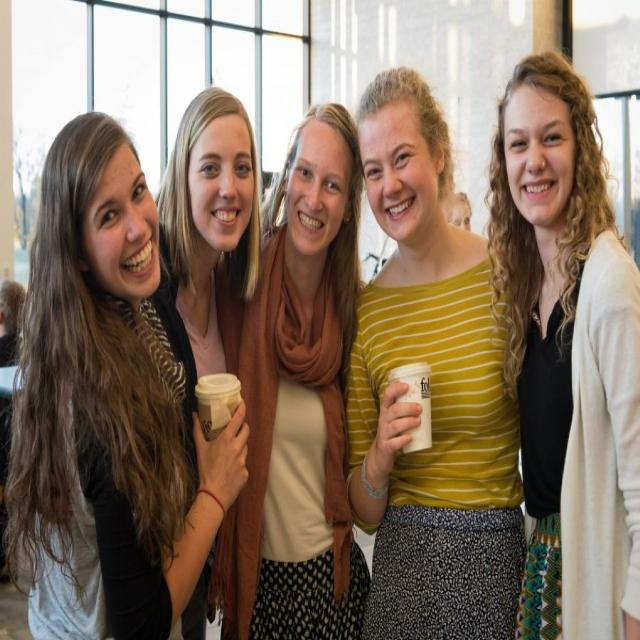body: (9, 104, 253, 639), (342, 61, 533, 639), (477, 44, 639, 639), (212, 99, 372, 640), (153, 84, 264, 640), (0, 277, 30, 586), (438, 184, 478, 243)
